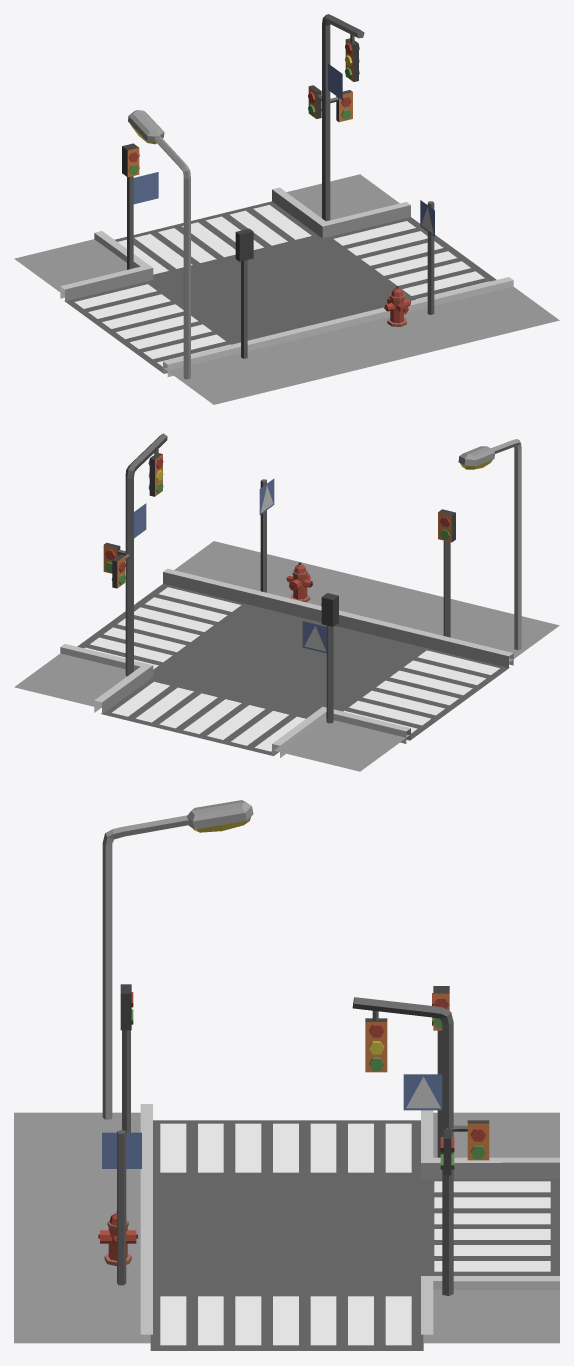
Rendered from road_tile_1x1_005.glb.
3 views of the same model, one above another, from view 1: azimuth 30°, elevation 25°; view 2: azimuth 150°, elevation 25°; view 3: azimuth 270°, elevation 25° (orthographic). The views are drawn at different scales.
Parts seen in each view (by area): view 1: road_tile_1x1_005; view 2: road_tile_1x1_005; view 3: road_tile_1x1_005.
Part boxes in pixels (x1,y1,x2,y2): road_tile_1x1_005: [14, 14, 559, 404]; road_tile_1x1_005: [14, 433, 559, 771]; road_tile_1x1_005: [14, 800, 559, 1350].
Size of the model in its own units: 8.02 by 5.25 by 8.
Materials: 1 (1 with a texture image).
